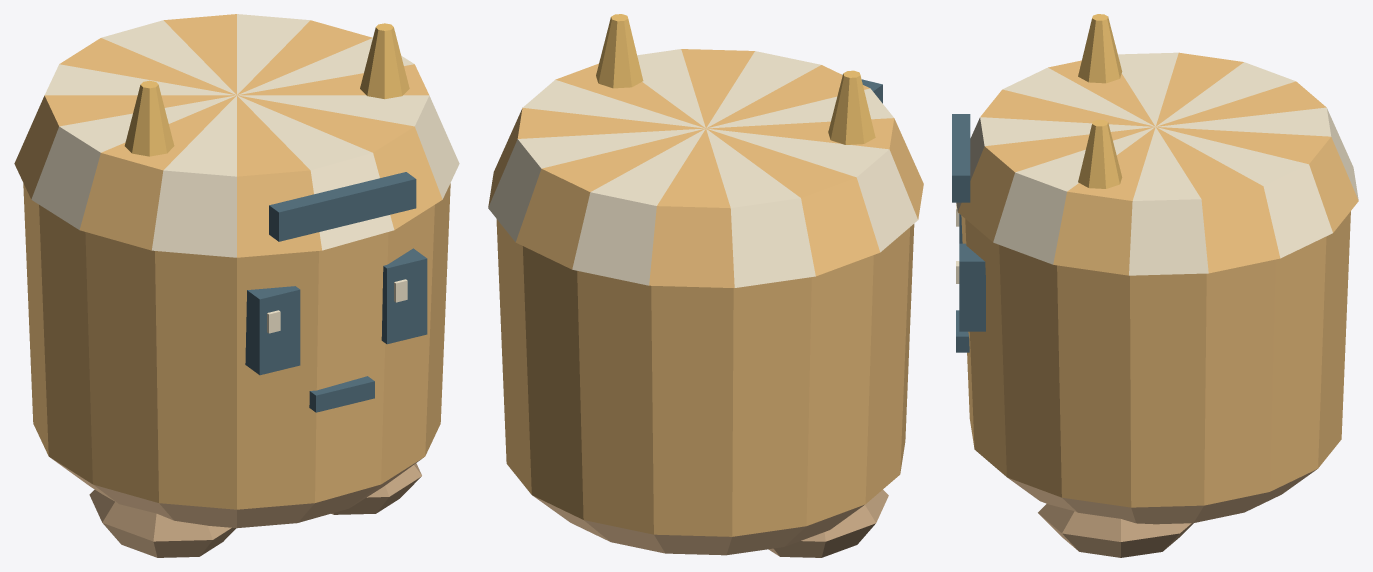
File: FestivalCharger.glb
3 views of the same model, side by side, from view 1: azimuth 30°, elevation 25°; view 2: azimuth 150°, elevation 25°; view 3: azimuth 270°, elevation 25° (orthographic). The views are drawn at different scales.
Parts seen in each view (by area): view 1: FestivalCharger; view 2: FestivalCharger; view 3: FestivalCharger.
Boxes of the visible parts, left/top/right/bottom form: FestivalCharger: left=14, top=14, right=459, bottom=557; FestivalCharger: left=488, top=14, right=923, bottom=557; FestivalCharger: left=952, top=14, right=1358, bottom=557.
Size of the model in its own units: 1.17 by 1.39 by 1.17.
